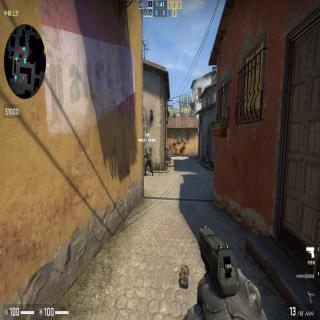CT-Body: (144, 147, 154, 177)
CT-Head: (146, 148, 150, 152)
